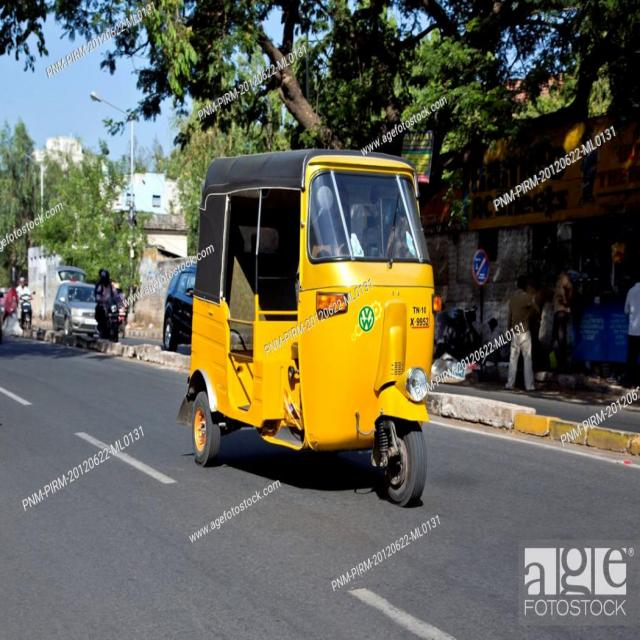autorikshaw: (186, 148, 432, 501)
